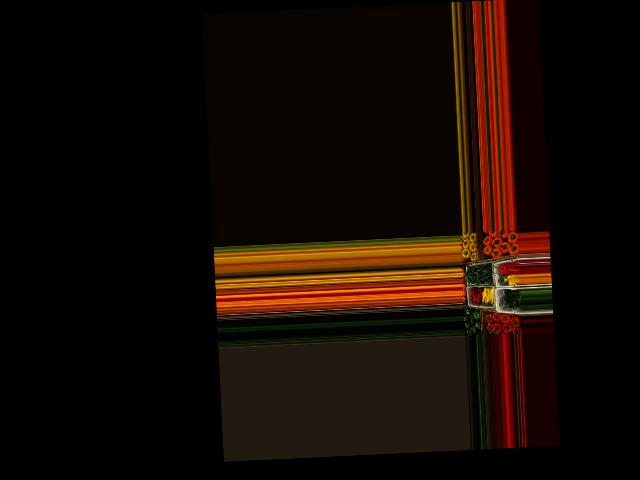bell_pepper: (471, 319, 483, 330)
